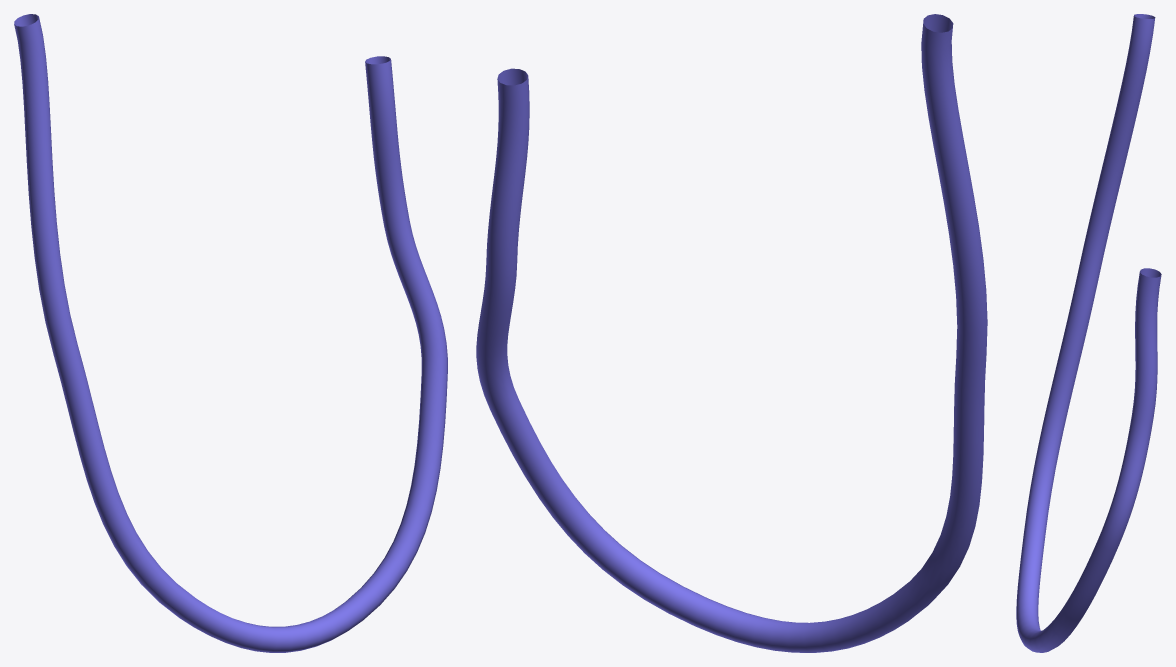
Rendered from Dorsal_venous_network_hand_left.glb.
3 renders of one model, left to right at view 1: azimuth 30°, elevation 25°; view 2: azimuth 150°, elevation 25°; view 3: azimuth 270°, elevation 25°, orthographic. The views are drawn at different scales.
Visible parts, largest first — view 1: Dorsal_venous_network_of_hand.l_BezierCurve.372; view 2: Dorsal_venous_network_of_hand.l_BezierCurve.372; view 3: Dorsal_venous_network_of_hand.l_BezierCurve.372.
Part boxes in pixels (x1,y1,x2,y2): Dorsal_venous_network_of_hand.l_BezierCurve.372: [14, 14, 447, 652]; Dorsal_venous_network_of_hand.l_BezierCurve.372: [476, 14, 987, 652]; Dorsal_venous_network_of_hand.l_BezierCurve.372: [1016, 14, 1161, 652].
Bounding box in the file's own units: 0.0494 × 0.0718 × 0.0177.
